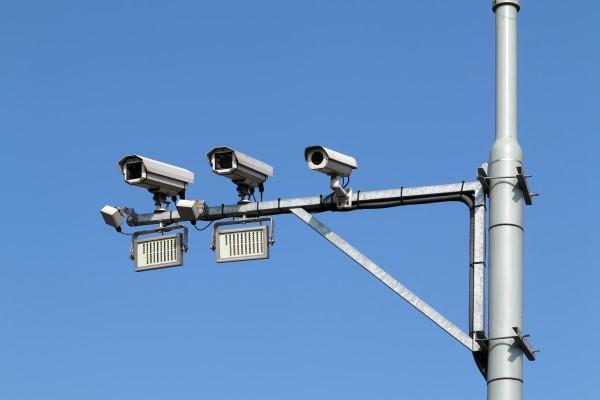Monitor: (117, 153, 194, 198), (205, 145, 273, 190), (300, 138, 355, 177)
